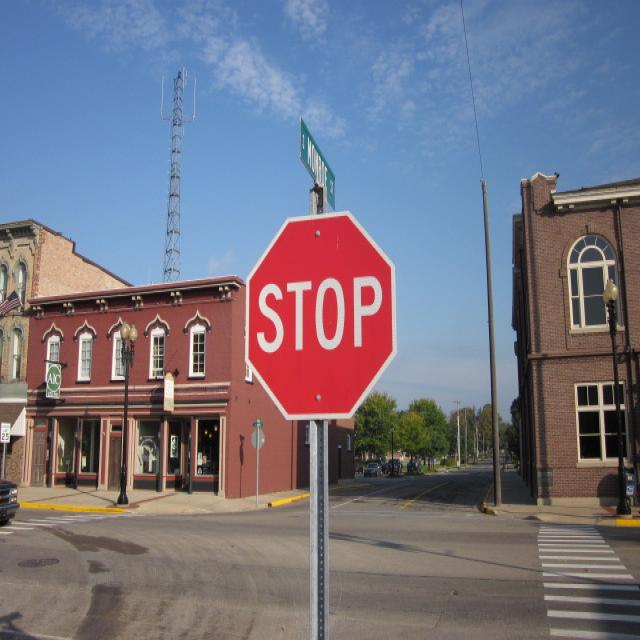stop: (240, 212, 400, 430)
